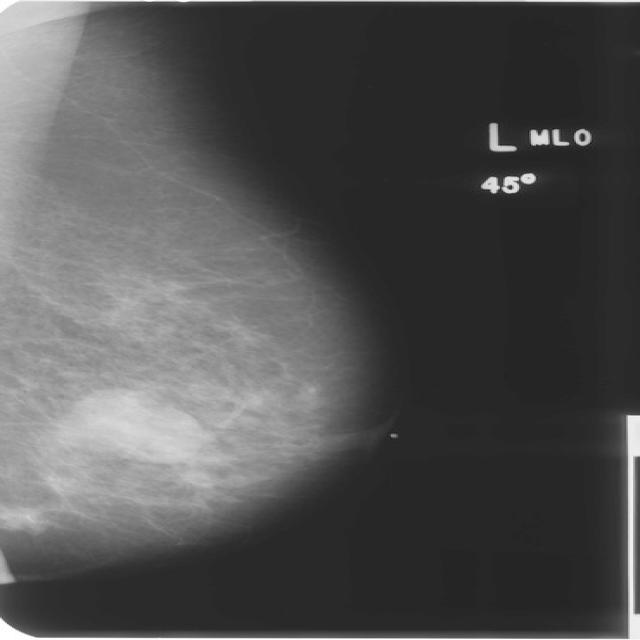tumour: (2, 504, 45, 534)
